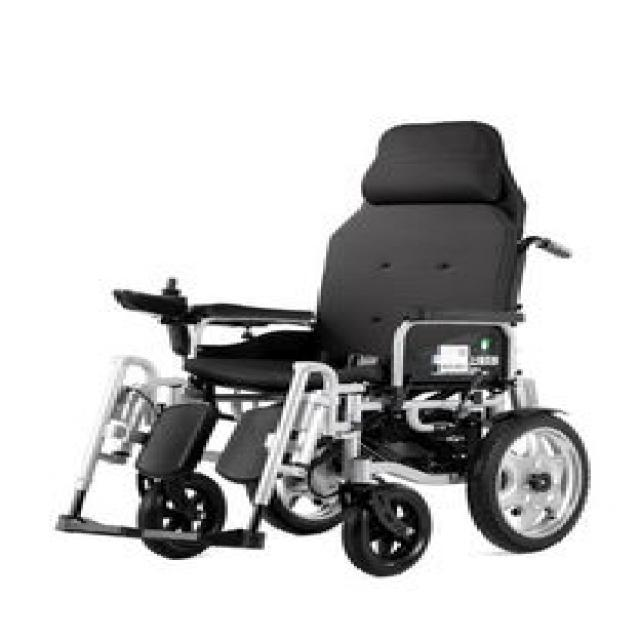wheelchair: (28, 101, 594, 588)
